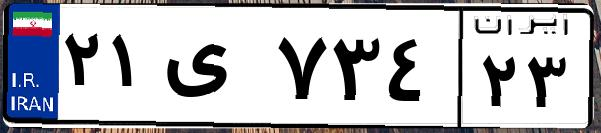1: (110, 28, 158, 98)
2: (57, 26, 110, 100), (475, 38, 525, 113)
3: (330, 28, 385, 110), (525, 38, 570, 115)
4: (385, 28, 445, 110)
7: (270, 28, 330, 110)
ی: (158, 20, 270, 120)
